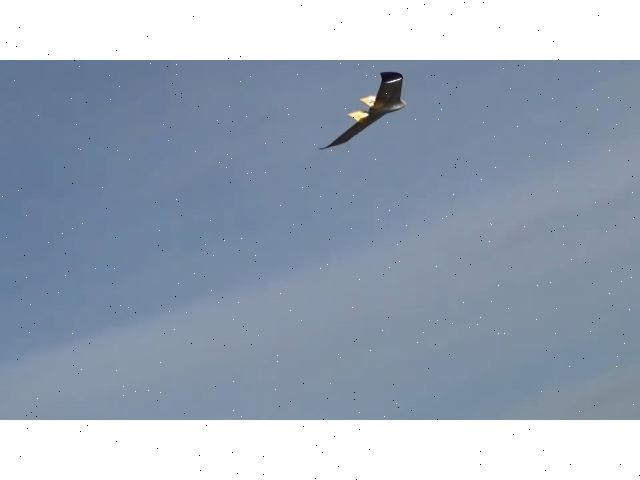Anti-Drone: (319, 72, 405, 150)
